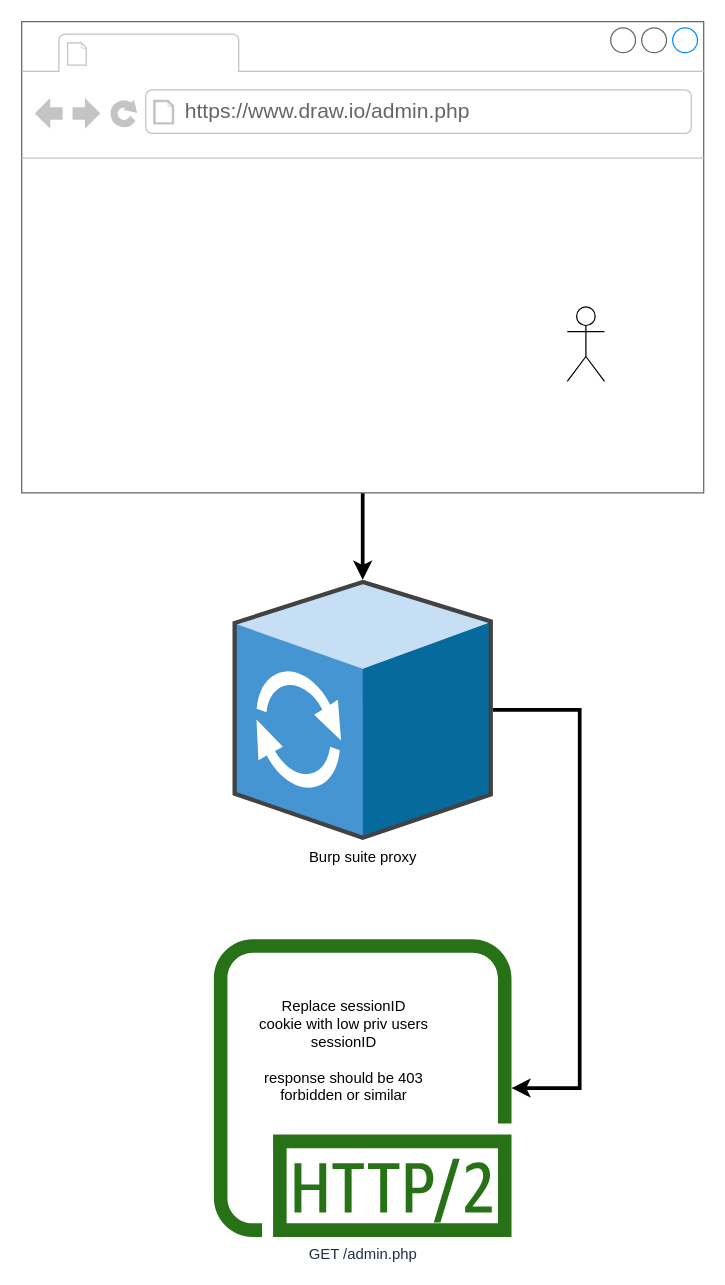
Some shapes in this 725 by 1285 pixel diagram are drawn without their labels. Here are the shapes that lost their labels. From the top down, the centre of each, then its label:
point (163, 52): Page 1
point (585, 343): admin
